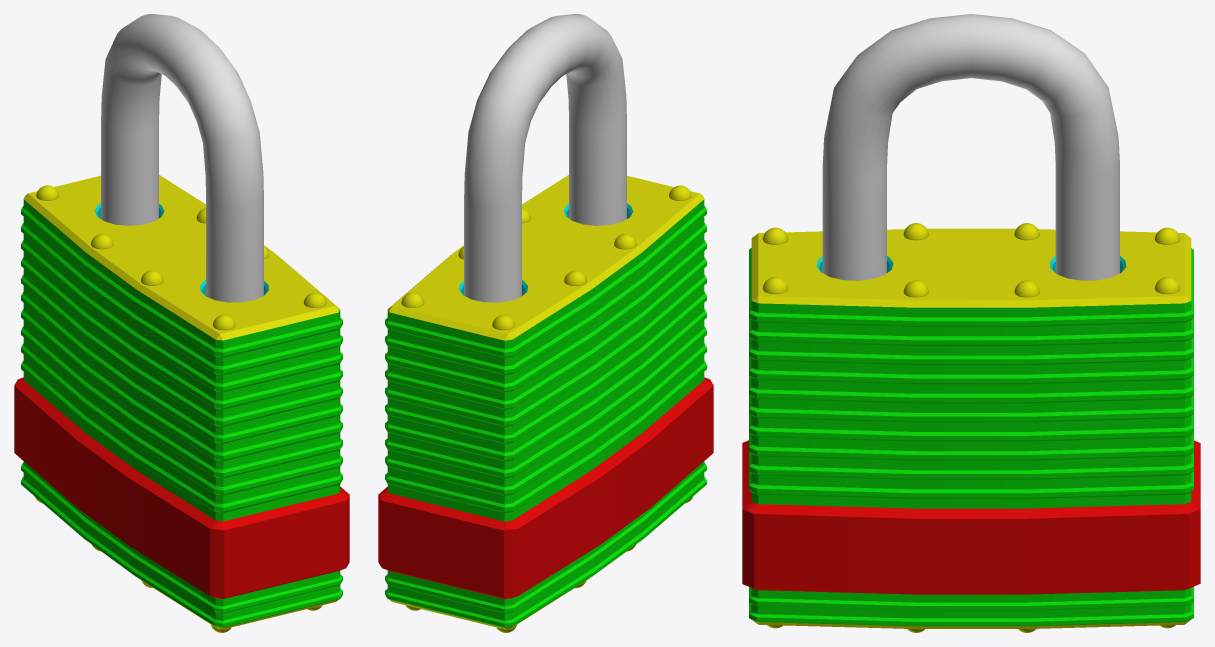
The model's file is FBX_padlock.fbx.
The picture shows the model from 3 angles, left to right: view 1: azimuth 30°, elevation 25°; view 2: azimuth 150°, elevation 25°; view 3: azimuth 270°, elevation 25°; orthographic projection. The views are drawn at different scales.
Visible parts, largest first — view 1: FBX_padlock_Body, FBX_padlock_Top; view 2: FBX_padlock_Body, FBX_padlock_Top; view 3: FBX_padlock_Body, FBX_padlock_Top.
Boxes of the visible parts, x1,y1,x2,y2 form: FBX_padlock_Body: (14,175,349,632); FBX_padlock_Top: (101,14,263,302); FBX_padlock_Body: (378,175,713,632); FBX_padlock_Top: (464,14,626,302); FBX_padlock_Body: (742,223,1200,632); FBX_padlock_Top: (822,14,1119,280).
Size of the model in its own units: 1.97 by 6.3 by 4.46.
